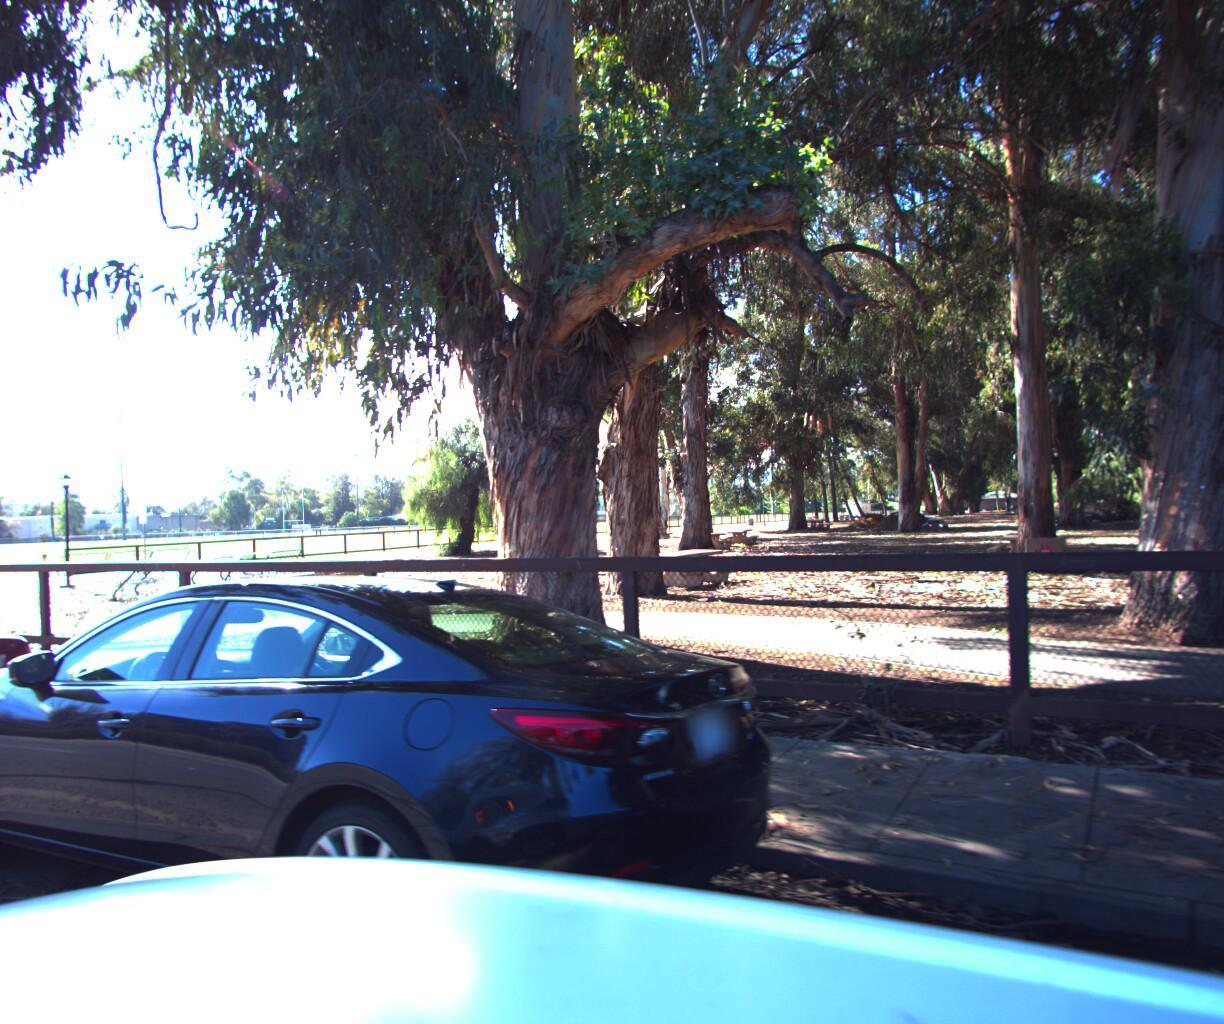car: (0, 553, 818, 1024), (0, 567, 69, 830)
